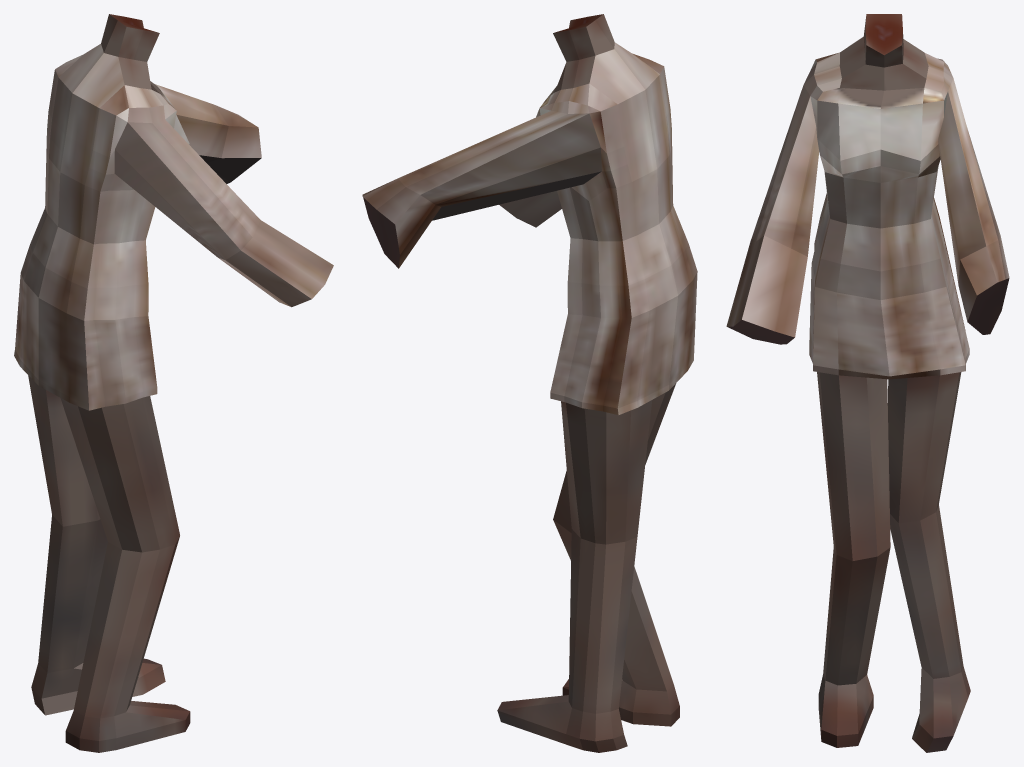
The model's file is no_head_woman.fbx.
The picture shows the model from 3 angles, left to right: view 1: azimuth 30°, elevation 25°; view 2: azimuth 150°, elevation 25°; view 3: azimuth 270°, elevation 25°; orthographic projection.
Visible parts, largest first — view 1: перс2.001; view 2: перс2.001; view 3: перс2.001.
Part boxes in pixels (left/top/right/bottom): перс2.001: left=14, top=14, right=333, bottom=752; перс2.001: left=362, top=14, right=697, bottom=752; перс2.001: left=726, top=14, right=1009, bottom=752.
Bounding box in the file's own units: 127 × 316 × 114.
Materials: 1 (1 with a texture image).
